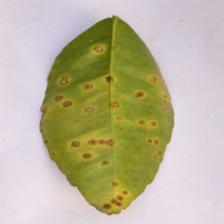canker: (16, 67, 224, 223)
